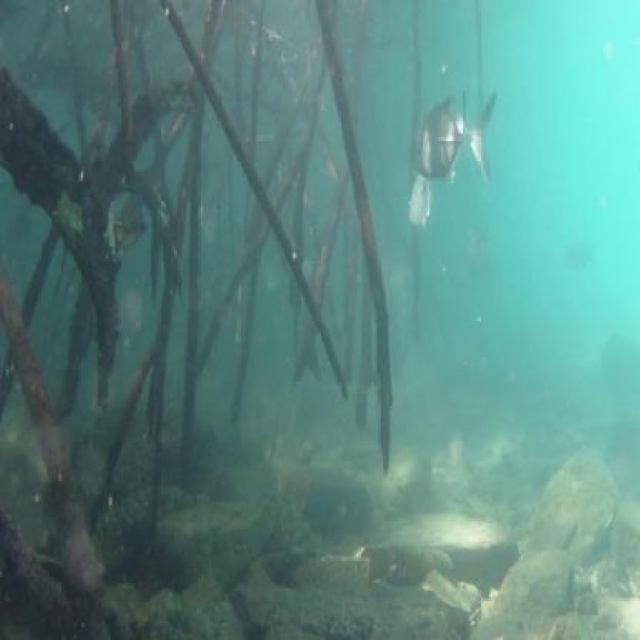Caranx_sexfasciatus_juvenile: (431, 81, 500, 196), (408, 92, 474, 188), (404, 167, 436, 241)
